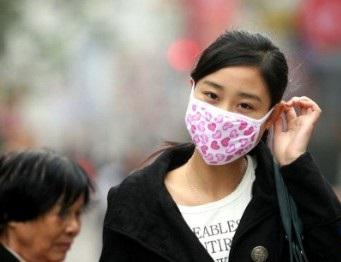NONE: (41, 195, 86, 262)
OK: (191, 74, 268, 165)
